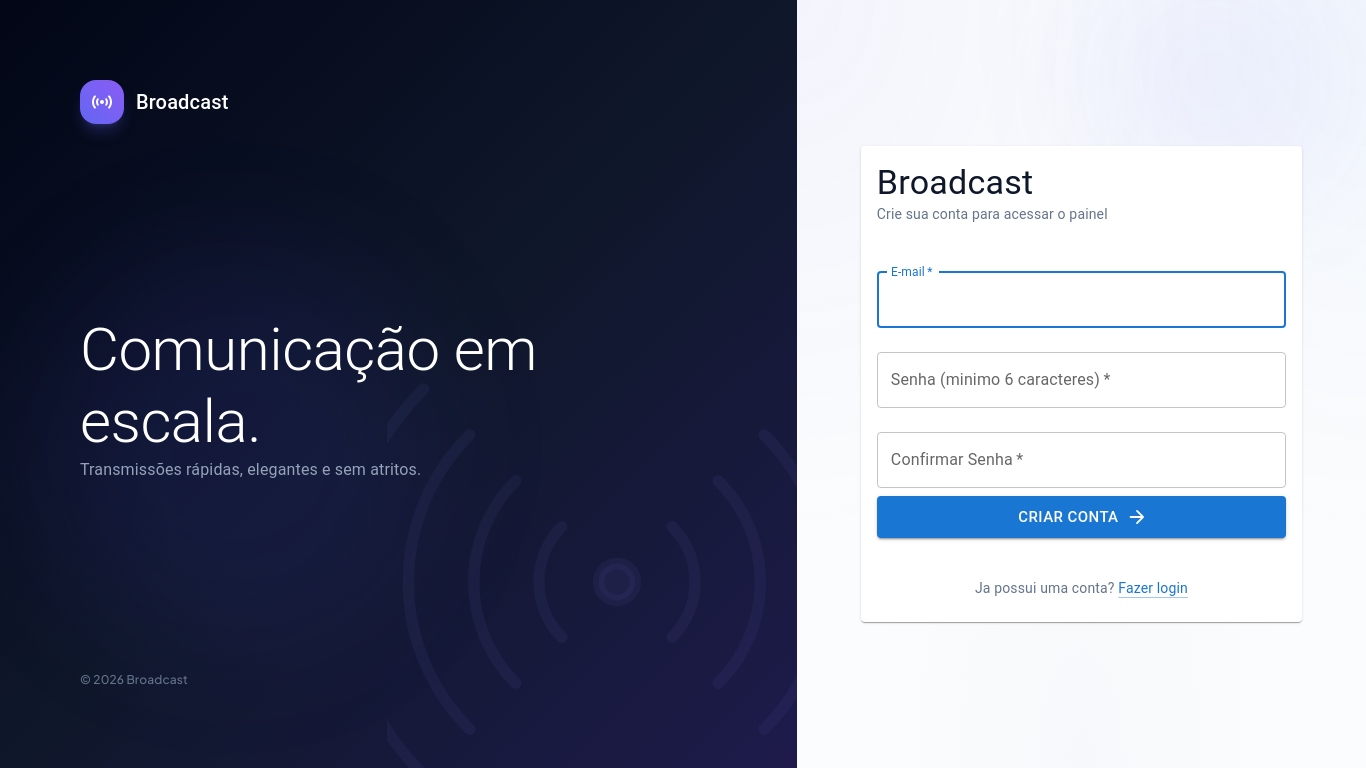
RegisterPage › deve validar senha com menos de 6 caracteres
This screenshot has width=1366, height=768.
Type "novo@example.com" into the field labelled "E-mail *" at [1081, 300], box [877, 272, 1286, 328]
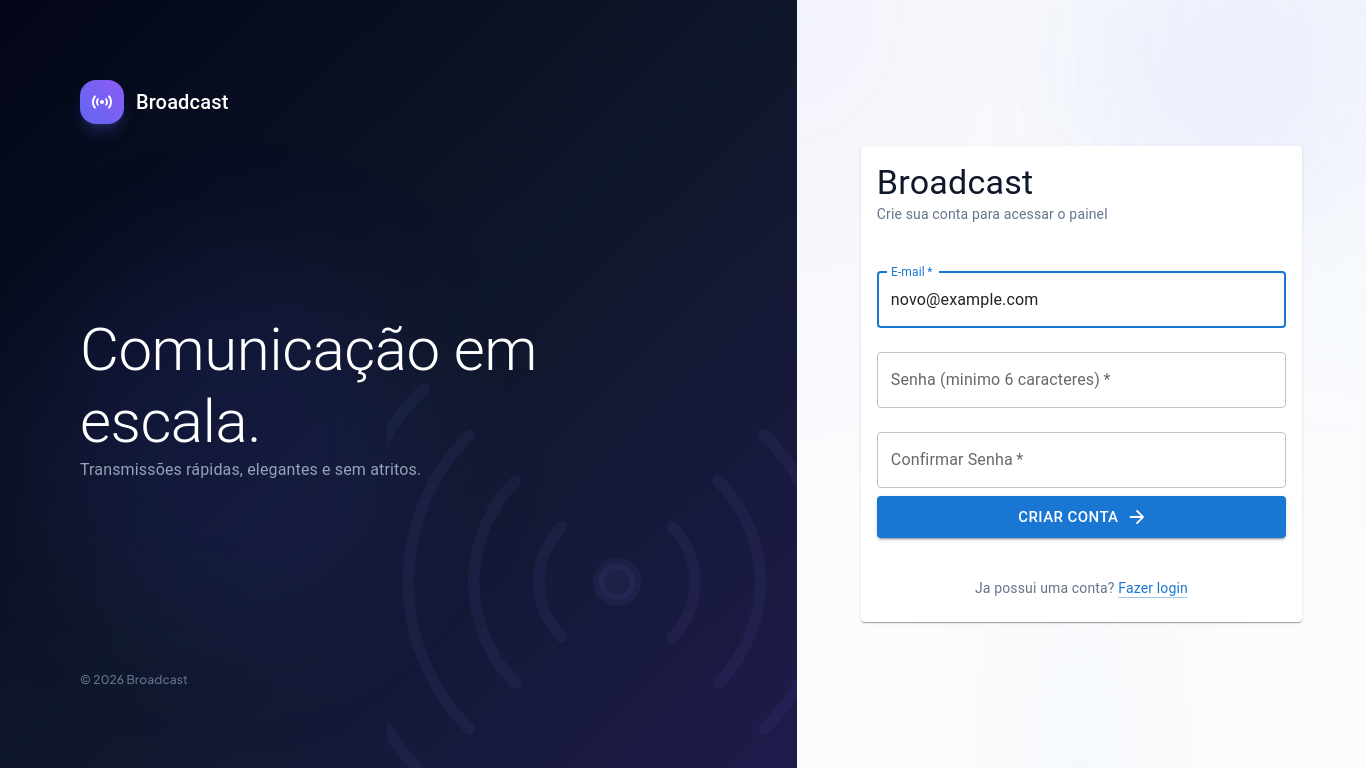
Type "123" into the password field labelled "Senha (minimo 6 caracteres) *" at [1081, 380], box [877, 352, 1286, 408]
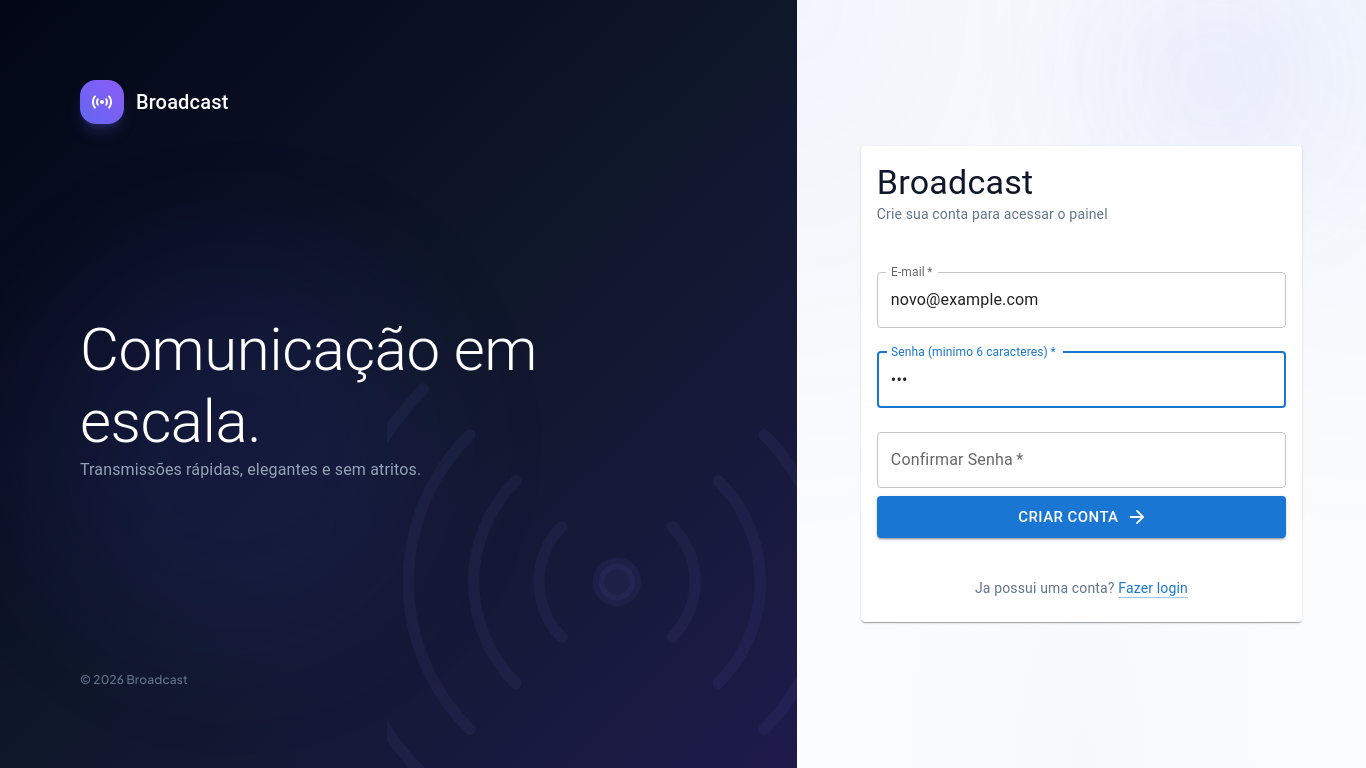
Type "123" into the password field labelled "Confirmar Senha *" at [1081, 460], box [877, 432, 1286, 488]
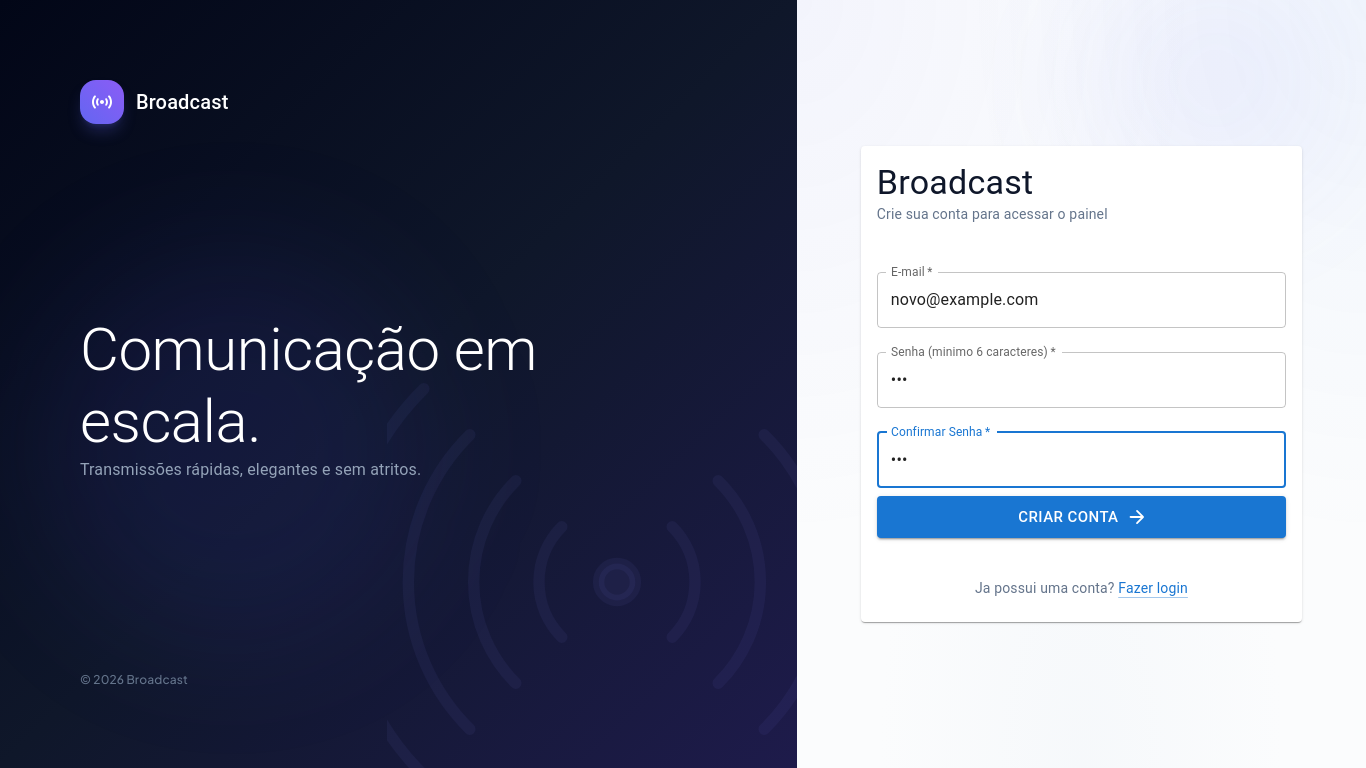
Click the button "Criar Conta" at [1081, 517], box [877, 496, 1286, 538]
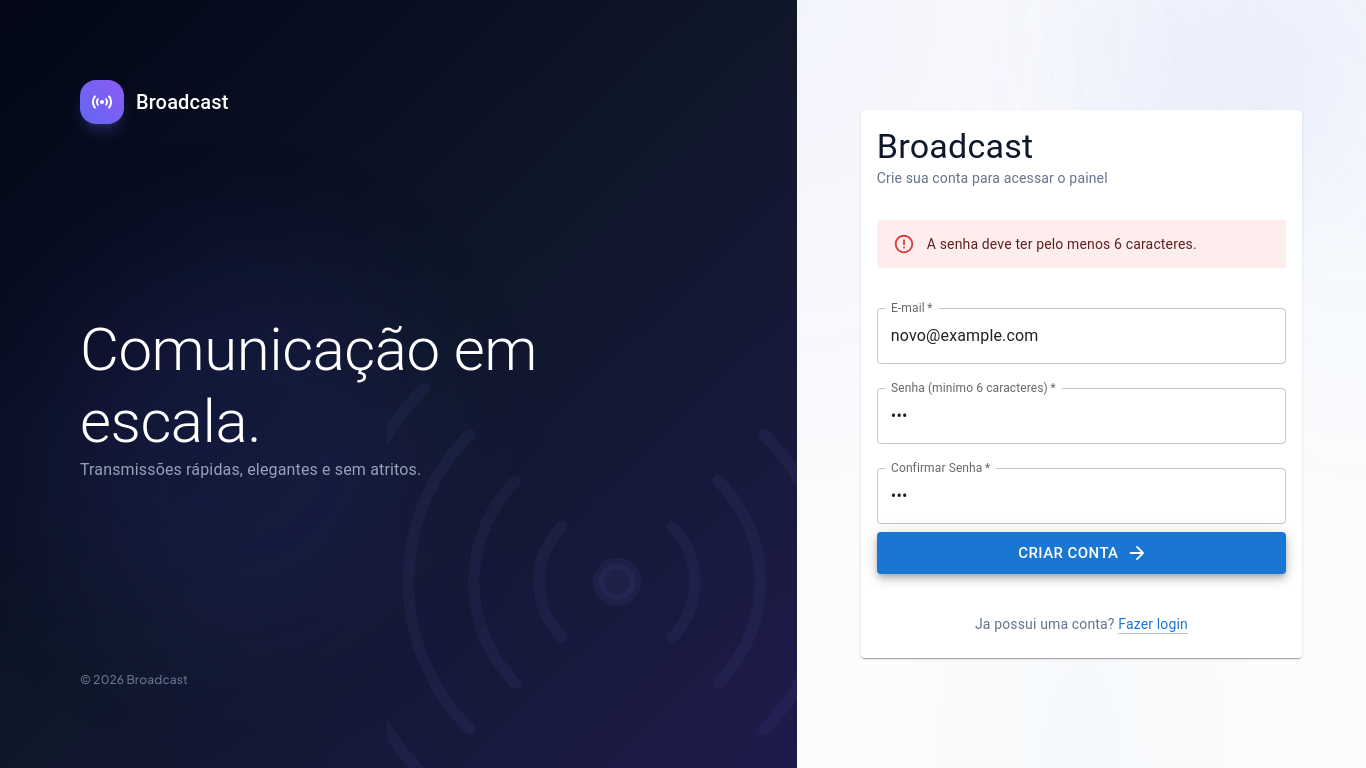
Now the text "A senha deve ter pelo menos 6 caracteres." is shown, box [927, 236, 1197, 252]
